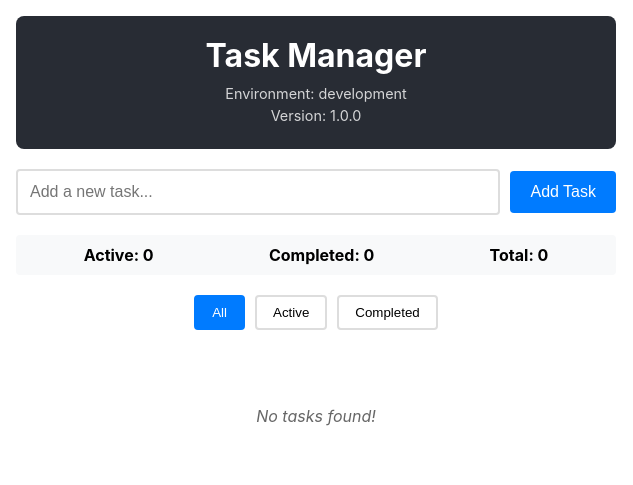
App Component › filters tasks correctly
Add two tasks
Type "Task 1" into the field with placeholder "Add a new task..." at coordinates (258, 192), box [16, 169, 500, 215]
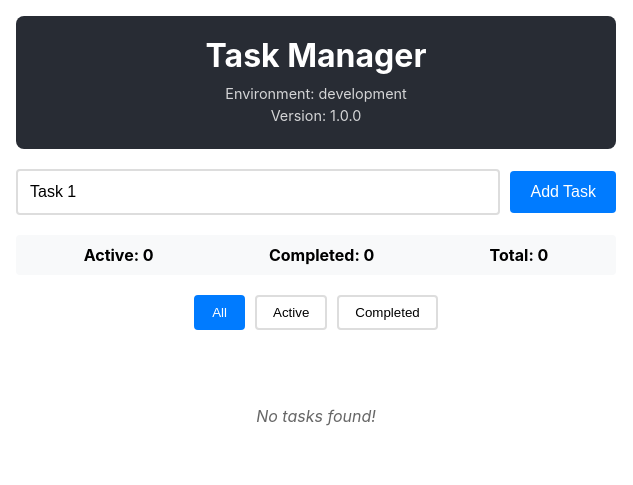
Click the button "Add Task" at coordinates (563, 192), box [510, 171, 616, 213]
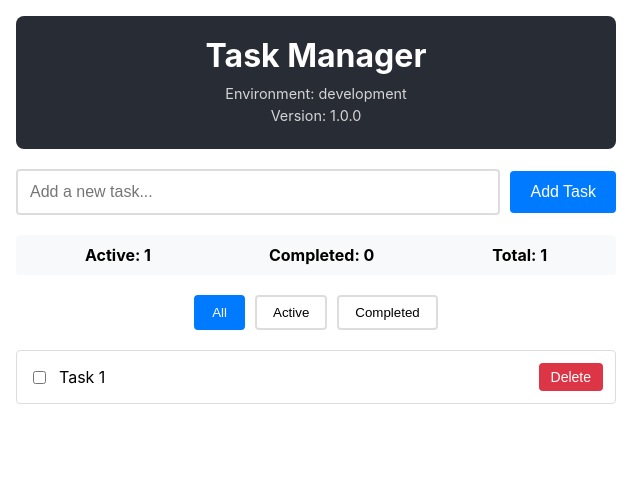
Type "Task 2" into the field with placeholder "Add a new task..." at coordinates (258, 192), box [16, 169, 500, 215]
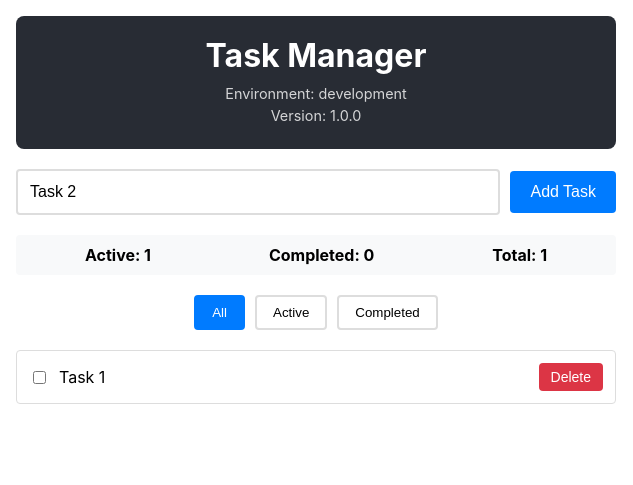
Click the button "Add Task" at coordinates (563, 192), box [510, 171, 616, 213]
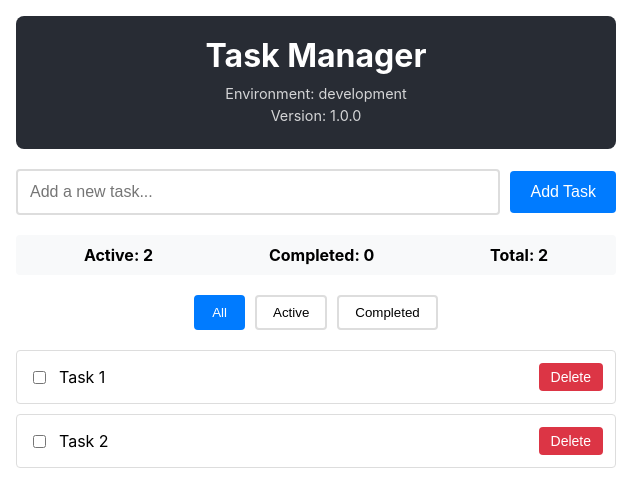
Complete first task
Click the checkbox next to "Task 1" at coordinates (40, 377), box [33, 370, 46, 384]
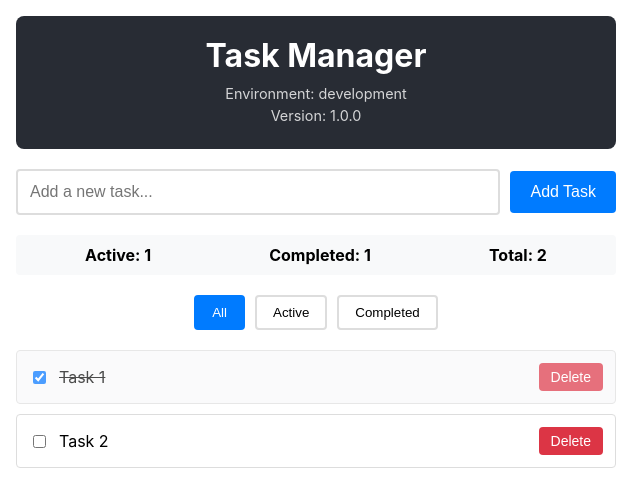
Filter to show only active tasks
Click the button "Active" at coordinates (291, 312), box [255, 295, 327, 330]
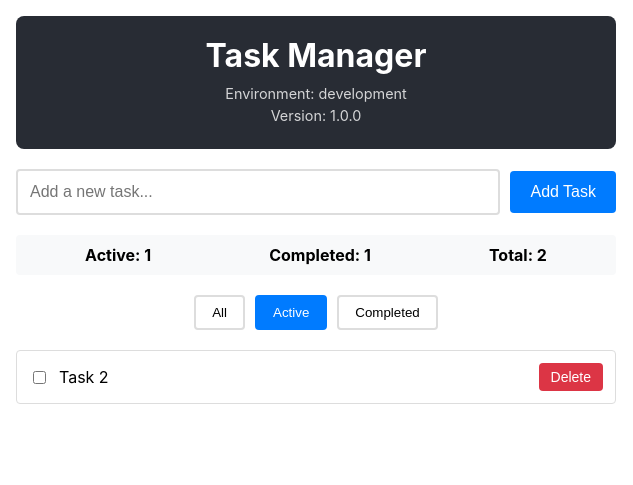
Check: the text "Task 2" is shown, box [59, 367, 109, 387]
Check: the text "Task 1" is gone
